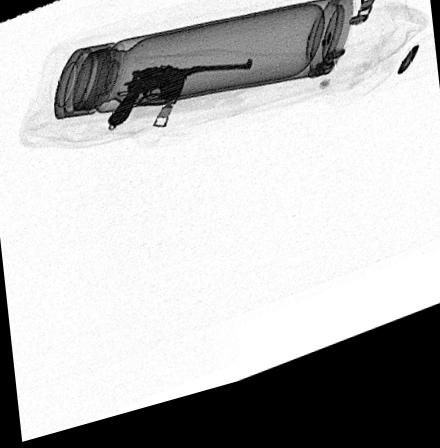Gun: (106, 69, 254, 133)
